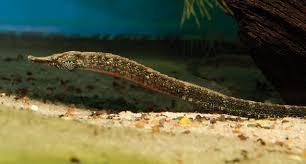Long-Snouted Pipefish: (26, 50, 306, 119)
